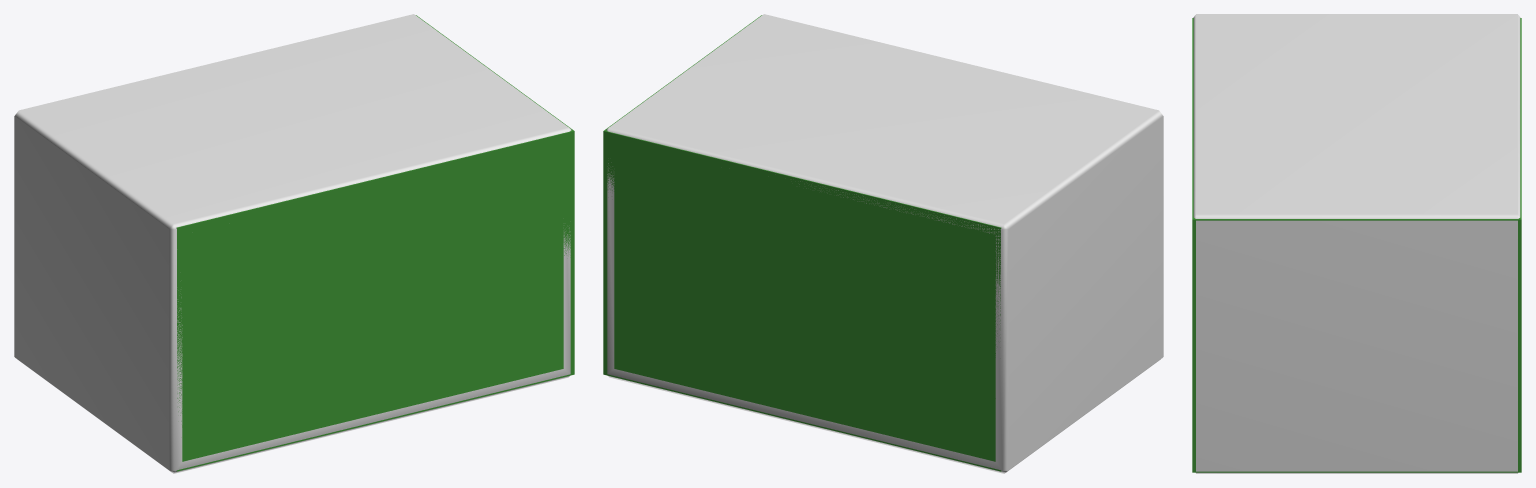
File: DuctStraightConnector_02_Mesh.fbx
3 renders of one model, left to right at view 1: azimuth 30°, elevation 25°; view 2: azimuth 150°, elevation 25°; view 3: azimuth 270°, elevation 25°, orthographic. The views are drawn at different scales.
Visible parts, largest first — view 1: StraightConnector_02_LOD0, Duct_StraightConnector_02_Col; view 2: StraightConnector_02_LOD0, Duct_StraightConnector_02_Col; view 3: StraightConnector_02_LOD0, Duct_StraightConnector_02_Col.
Part boxes in pixels (box(x1,y1,x2,y2)): StraightConnector_02_LOD0: box(14, 14, 571, 473); Duct_StraightConnector_02_Col: box(176, 15, 574, 471); StraightConnector_02_LOD0: box(606, 14, 1163, 473); Duct_StraightConnector_02_Col: box(603, 15, 1001, 471); StraightConnector_02_LOD0: box(1193, 14, 1520, 473); Duct_StraightConnector_02_Col: box(1192, 18, 1521, 472).
Size of what is drawn, in the model's own units: 73.58 by 43.57 by 50.
